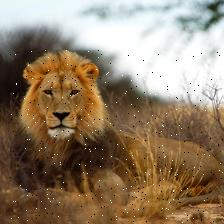Lion: (11, 51, 224, 224)
